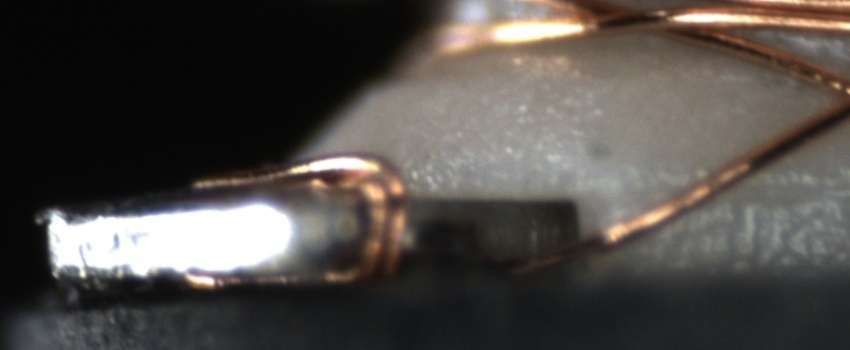DL: (624, 160, 849, 217)
TE: (177, 134, 417, 297)
